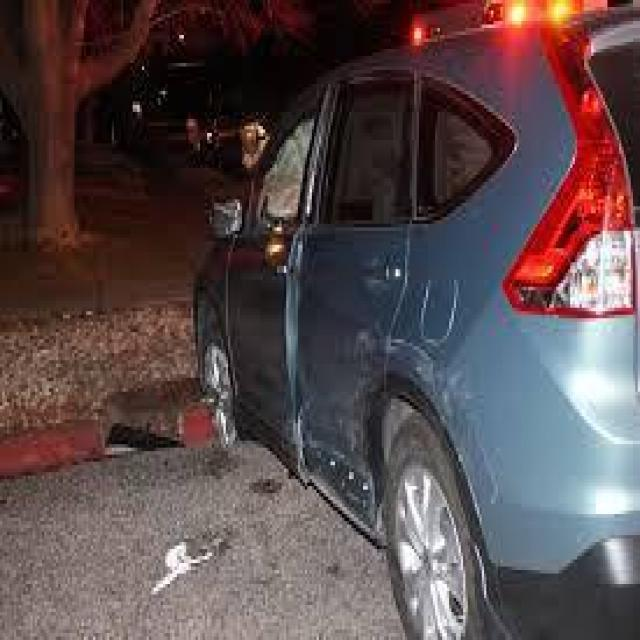damaged: (314, 332, 384, 518), (379, 340, 470, 448)
